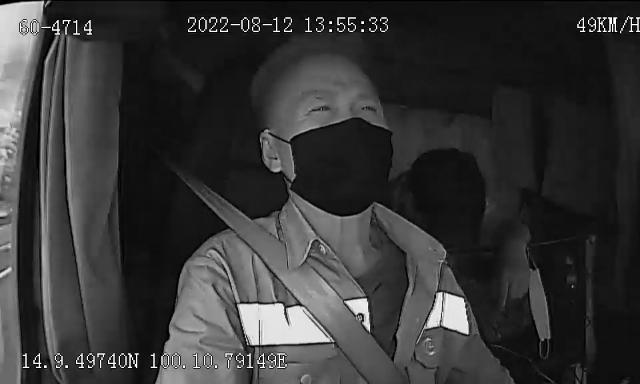SafeDriving: (301, 96, 337, 118), (351, 97, 384, 118)
Seatbelt: (194, 186, 410, 384)
